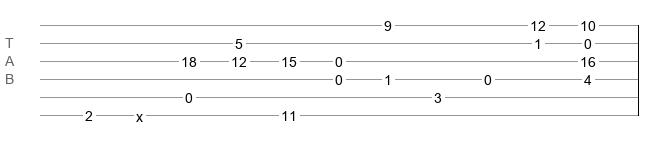0: (185, 90, 193, 100), (335, 54, 343, 64), (335, 72, 343, 82), (484, 72, 492, 82), (584, 36, 592, 46)
1: (384, 72, 392, 82), (534, 36, 542, 46)
10: (580, 18, 596, 28)
11: (281, 108, 297, 118)
12: (231, 54, 247, 64), (530, 18, 546, 28)
15: (281, 54, 297, 64)
16: (580, 54, 596, 64)
18: (181, 54, 197, 64)
2: (85, 108, 93, 118)
3: (434, 90, 442, 100)
4: (584, 72, 592, 82)
5: (235, 36, 243, 46)
9: (384, 18, 392, 28)
x: (136, 109, 143, 117)
